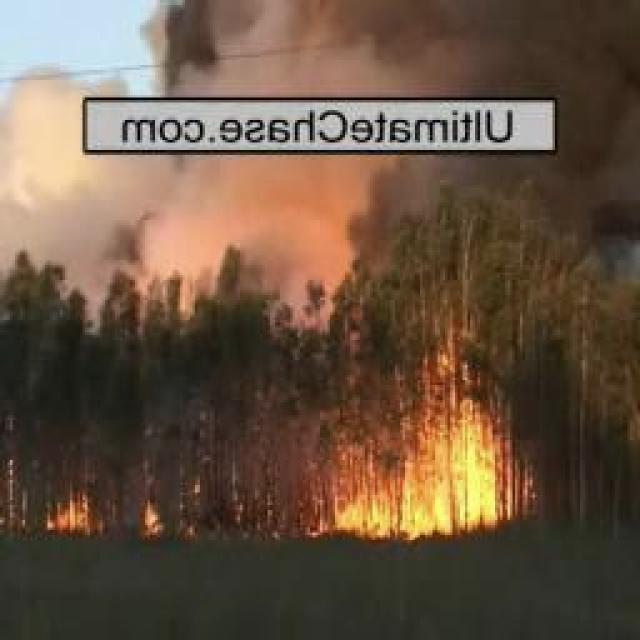Fire: (323, 382, 534, 537), (41, 487, 96, 536), (134, 495, 167, 534)
